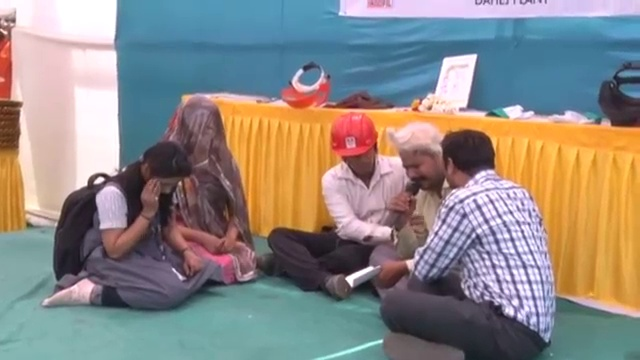helmet: (330, 111, 378, 160)
helmet_off: (440, 125, 500, 191), (395, 122, 446, 195), (171, 99, 225, 167), (126, 141, 195, 190)
helmet_on: (329, 112, 384, 185)
person: (367, 128, 558, 360), (36, 138, 223, 305), (269, 109, 408, 297), (162, 93, 261, 284), (371, 120, 455, 289)
